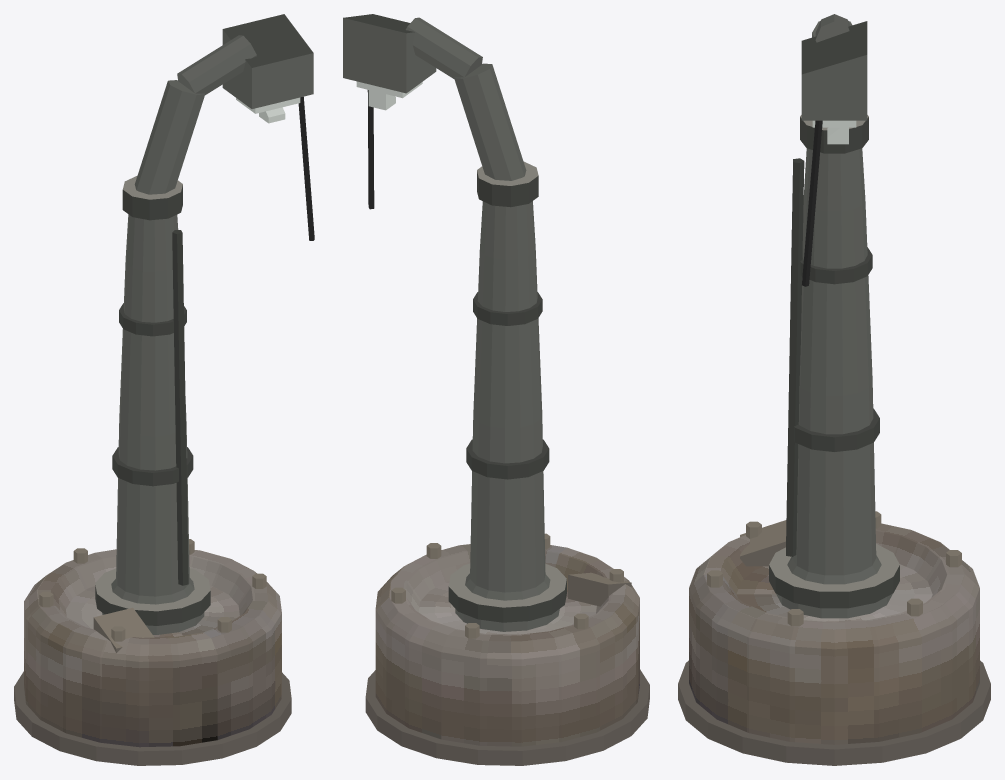
The model's file is Building_AncientLamp__C.glb.
3 renders of one model, left to right at view 1: azimuth 30°, elevation 25°; view 2: azimuth 150°, elevation 25°; view 3: azimuth 270°, elevation 25°, orthographic. The views are drawn at different scales.
Visible parts, largest first — view 1: AncientLamp__C; view 2: AncientLamp__C; view 3: AncientLamp__C.
Part boxes in pixels (box(x1,y1,x2,y2)): AncientLamp__C: box(14, 14, 314, 765); AncientLamp__C: box(343, 14, 649, 765); AncientLamp__C: box(678, 14, 990, 765).
Bounding box in the file's own units: 0.96 × 2.21 × 0.86.
Materials: 1 (1 with a texture image).
